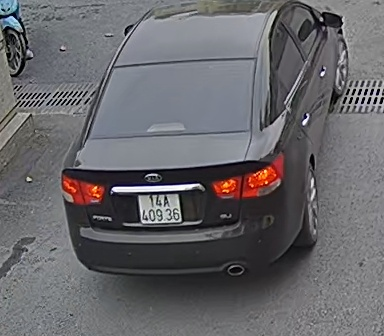vehicle plate: (131, 187, 181, 225)
